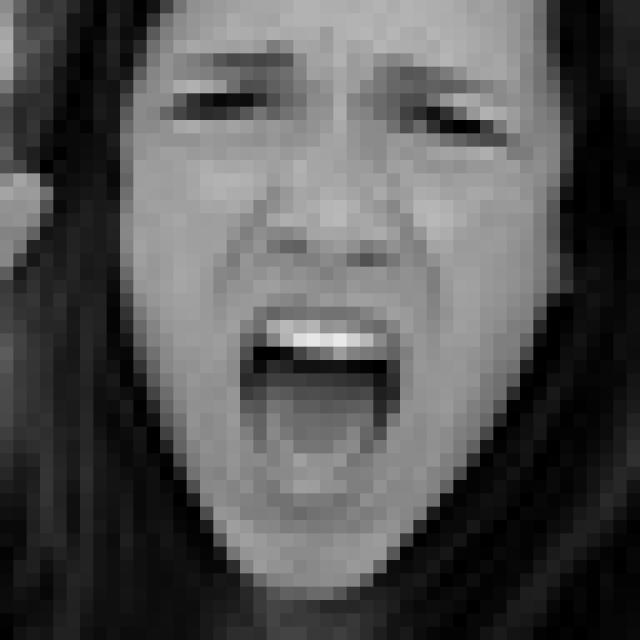angry: (150, 42, 525, 521)
